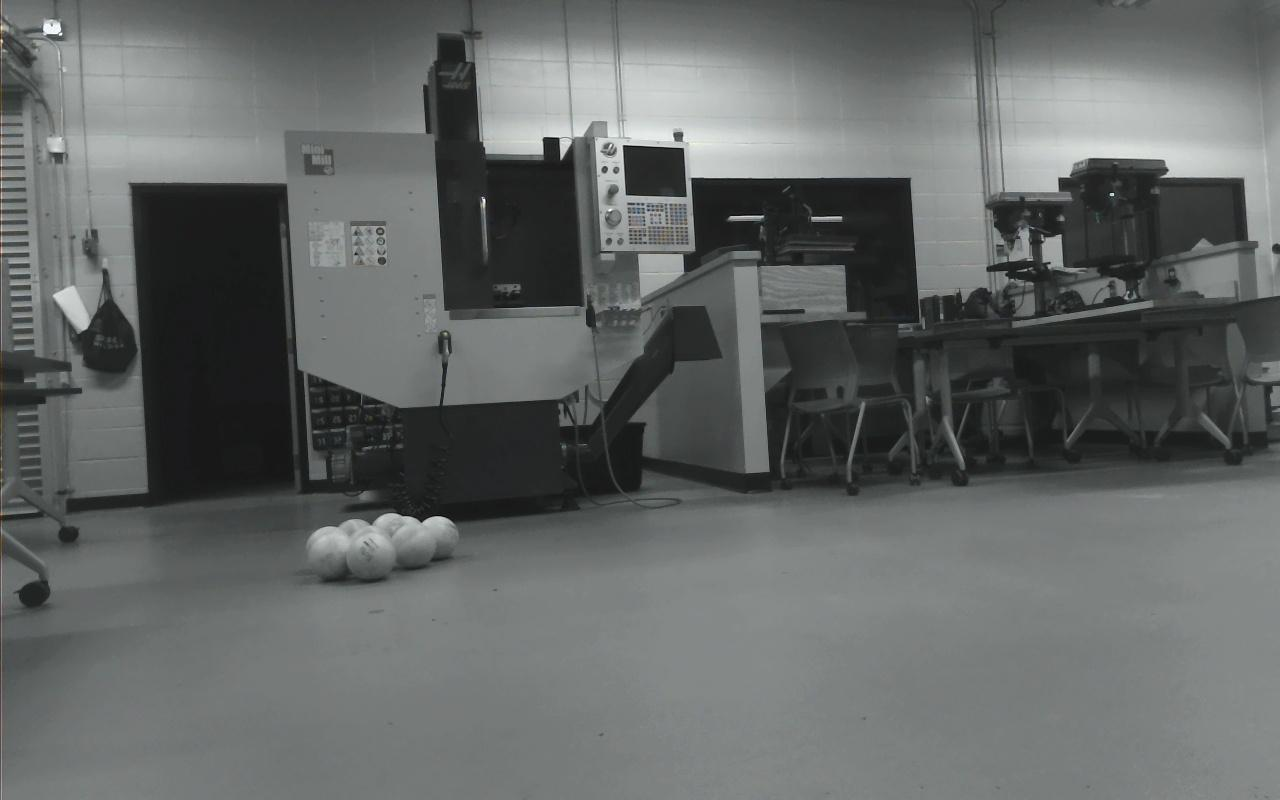Fuel: (346, 533, 396, 582), (306, 529, 353, 579), (390, 523, 436, 569), (353, 524, 397, 568), (305, 525, 348, 570), (372, 513, 415, 555), (417, 515, 458, 559), (338, 518, 379, 561), (388, 514, 426, 557)
